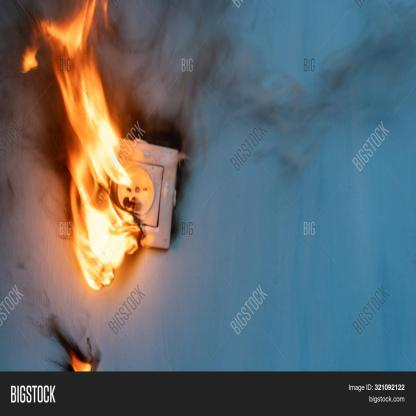fire: (13, 0, 151, 294)
smoke: (108, 5, 416, 152)
